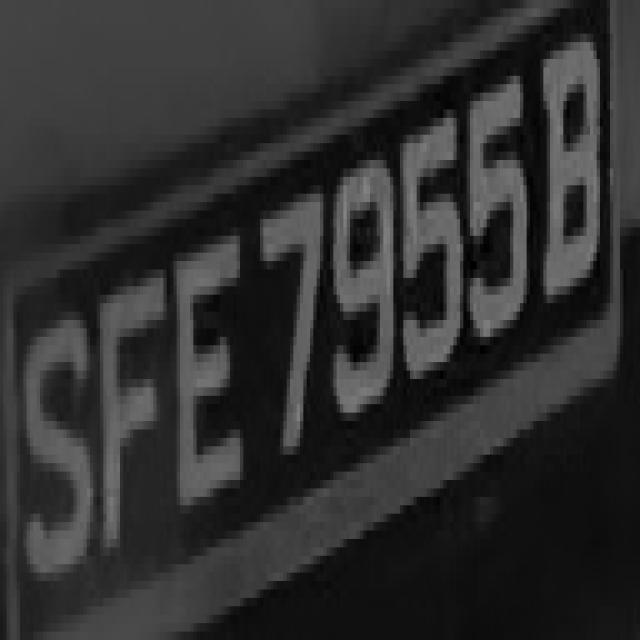5: (450, 51, 533, 362), (387, 110, 463, 404)
7: (240, 177, 327, 480)
9: (327, 143, 403, 421)
B: (543, 17, 607, 320)
E: (163, 211, 247, 522)
F: (90, 244, 173, 539)
S: (20, 295, 93, 598)
